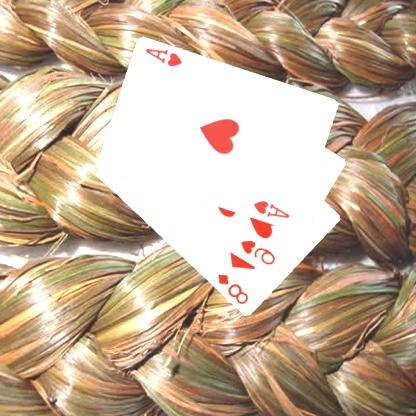8D: (216, 271, 252, 307)
9H: (239, 237, 279, 267)
AH: (252, 198, 293, 220), (144, 46, 185, 68)
